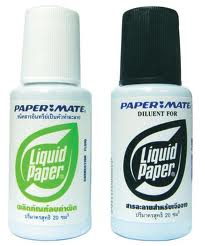Correction_fluid: (4, 3, 95, 242), (106, 2, 194, 241)
